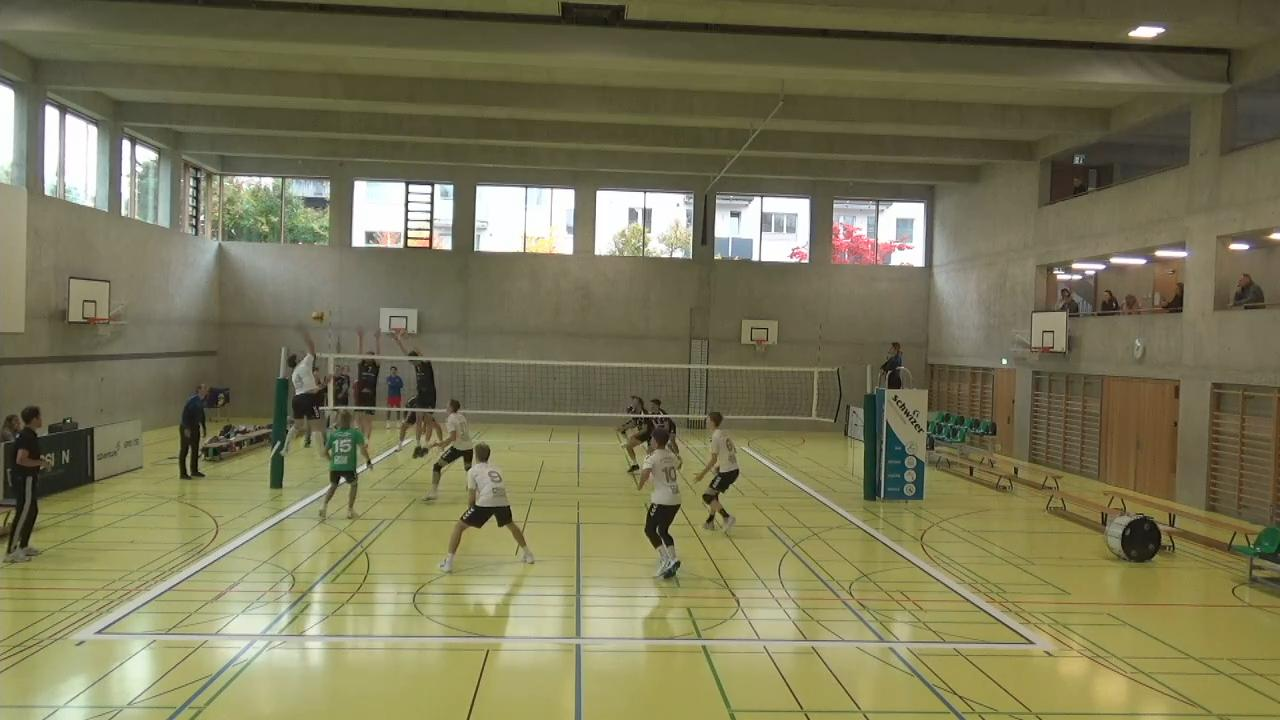Attack: (279, 325, 330, 457)
Block: (389, 322, 440, 468), (348, 319, 387, 456)
Player: (439, 443, 533, 570), (642, 429, 685, 583), (316, 411, 368, 521), (423, 397, 473, 501), (697, 411, 739, 532), (389, 384, 441, 452), (619, 394, 648, 475), (652, 397, 681, 465)
ball: (312, 308, 328, 324)
